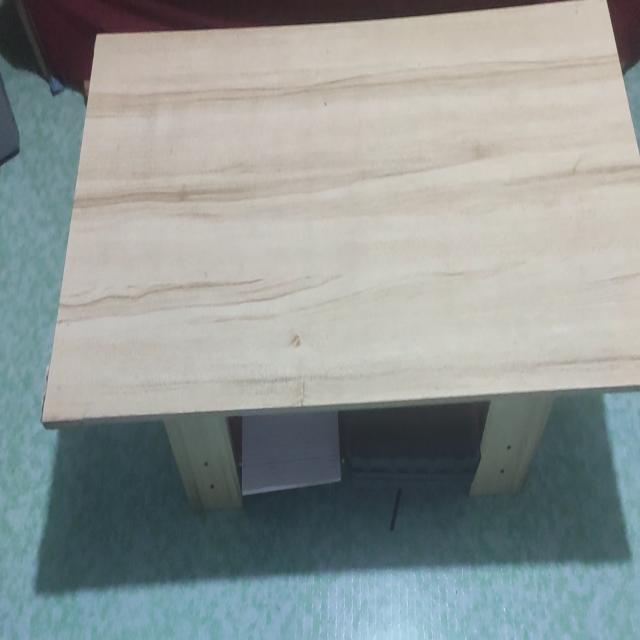table: (38, 0, 640, 521)
